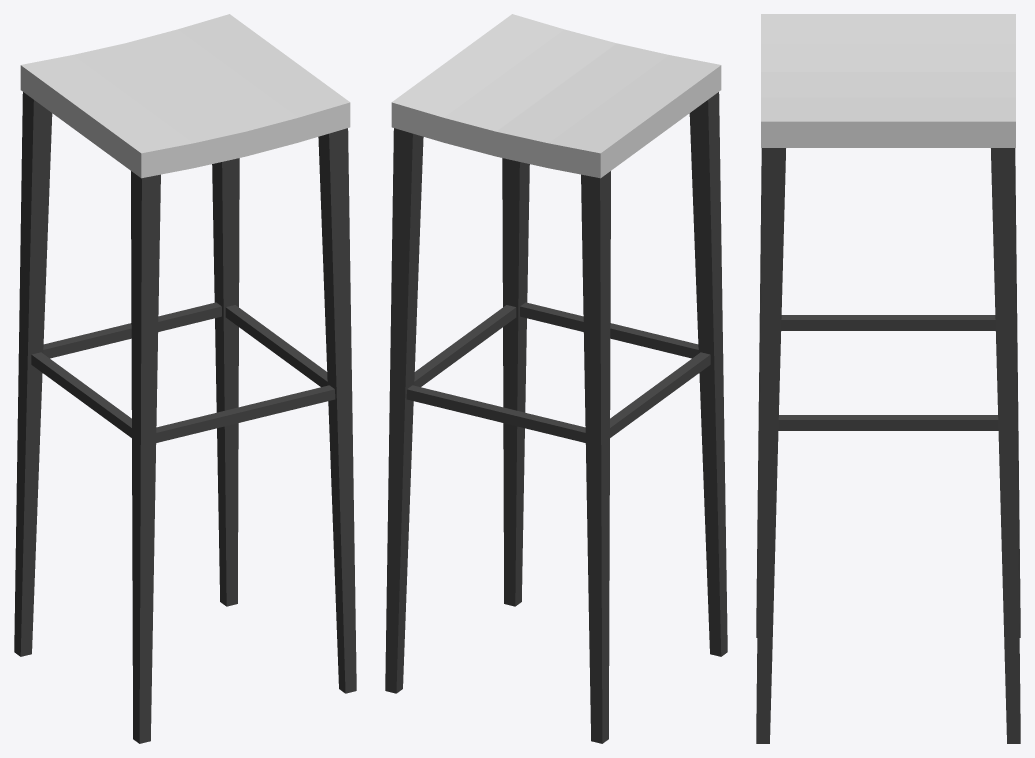
The model's file is Chair_08_C2.fbx.
3 views of the same model, side by side, from view 1: azimuth 30°, elevation 25°; view 2: azimuth 150°, elevation 25°; view 3: azimuth 270°, elevation 25° (orthographic). The views are drawn at different scales.
Parts seen in each view (by area): view 1: Chair_08_C2; view 2: Chair_08_C2; view 3: Chair_08_C2.
Boxes of the visible parts, x1,y1,x2,y2 form: Chair_08_C2: [14, 14, 356, 743]; Chair_08_C2: [385, 14, 727, 743]; Chair_08_C2: [756, 14, 1020, 743].
Bounding box in the file's own units: 33.75 × 87.3 × 33.75.
